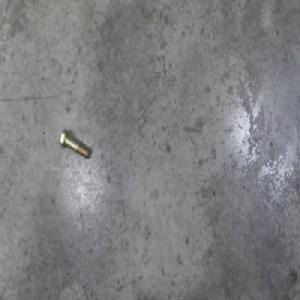Bolt: (60, 127, 90, 160)
